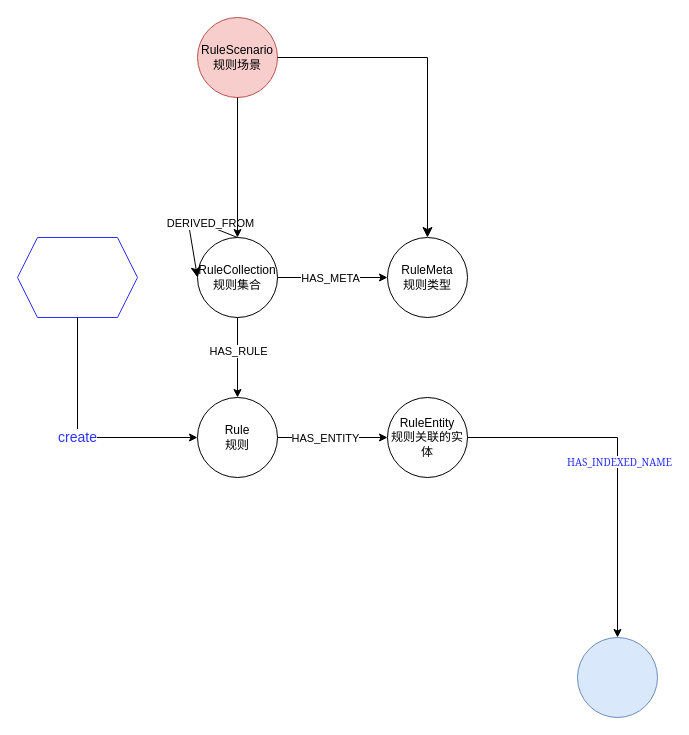
This 689x735 diagram has some shape labels left out. Each missing label, with the centre of its shape:
IndexedName: the point at 617,677
rule creation: the point at 77,277
